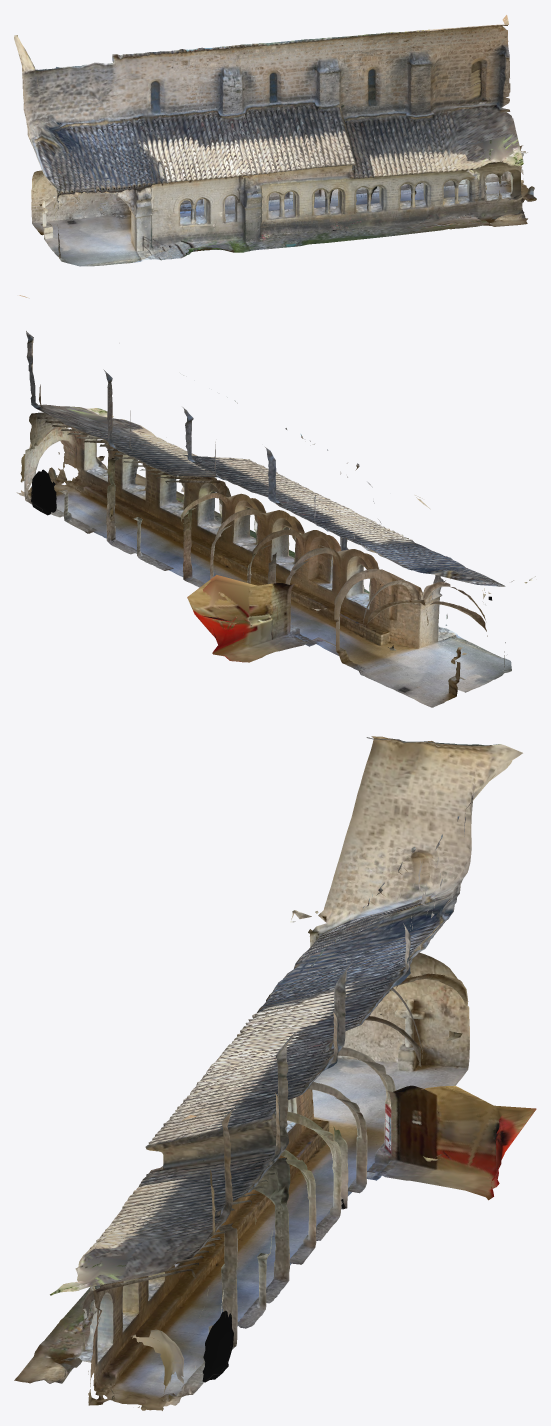
The model's file is medium.glb.
3 renders of one model, top to bottom at view 1: azimuth 30°, elevation 25°; view 2: azimuth 150°, elevation 25°; view 3: azimuth 270°, elevation 25°, orthographic. The views are drawn at different scales.
Visible parts, largest first — view 1: medium.016; view 2: medium.016; view 3: medium.016.
Part boxes in pixels (left/top/right/bottom): medium.016: left=14, top=15, right=536, bottom=266; medium.016: left=16, top=295, right=535, bottom=707; medium.016: left=14, top=736, right=536, bottom=1410.
Bounding box in the file's own units: 26.03 × 10.49 × 15.16.
1 material, 1 textured.
